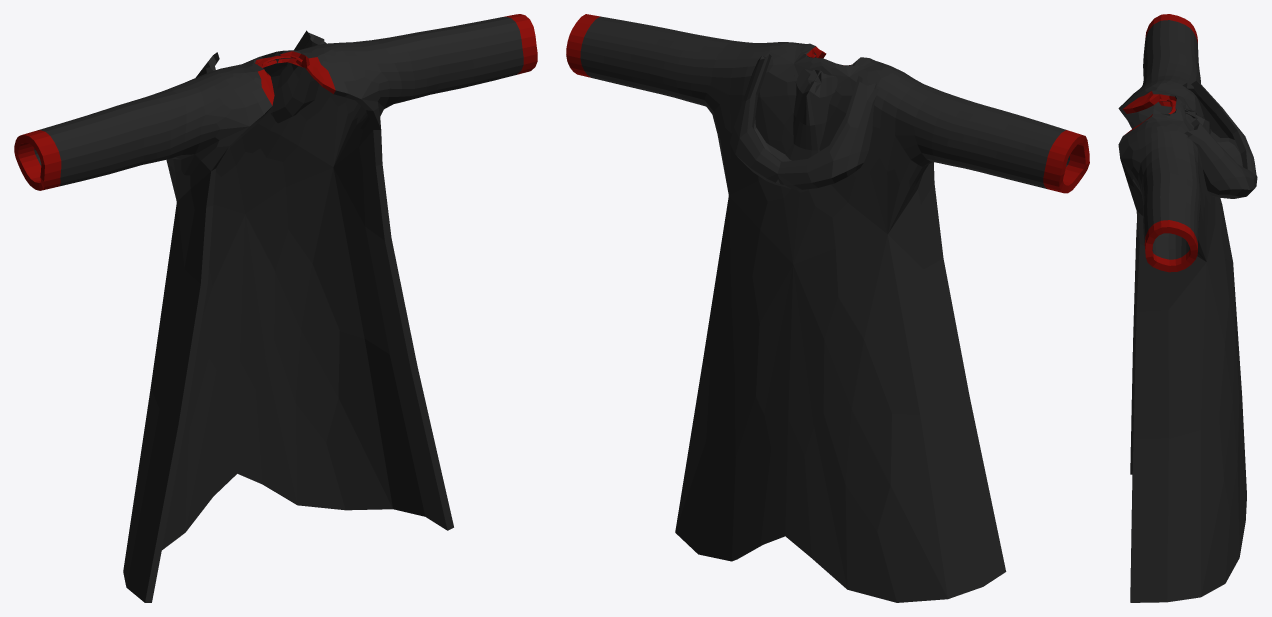
Rendered from samurai_coat.fbx.
The picture shows the model from 3 angles, left to right: view 1: azimuth 30°, elevation 25°; view 2: azimuth 150°, elevation 25°; view 3: azimuth 270°, elevation 25°; orthographic projection. The views are drawn at different scales.
Visible parts, largest first — view 1: Плоскость; view 2: Плоскость; view 3: Плоскость.
Boxes of the visible parts, x1,y1,x2,y2 form: Плоскость: [14, 14, 537, 602]; Плоскость: [566, 14, 1089, 602]; Плоскость: [1118, 14, 1257, 602].
Bounding box in the file's own units: 143 × 138 × 39.35.
